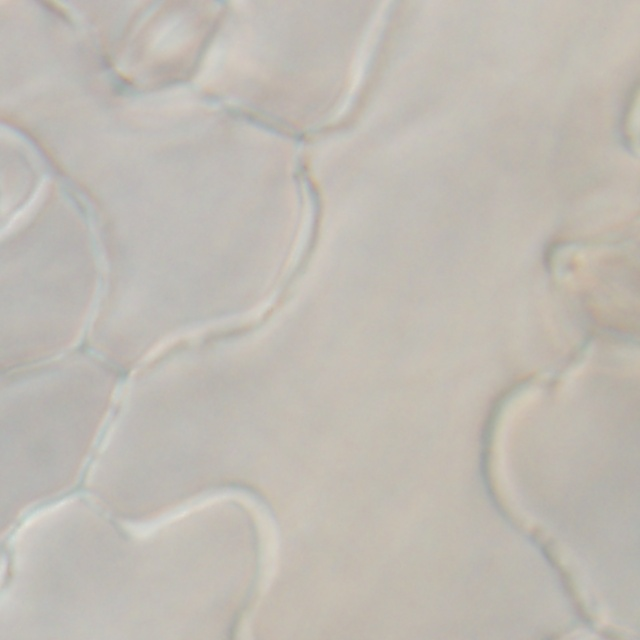center: (615, 120, 640, 122)
stomata-huw1: (64, 0, 269, 133), (624, 84, 639, 158)
